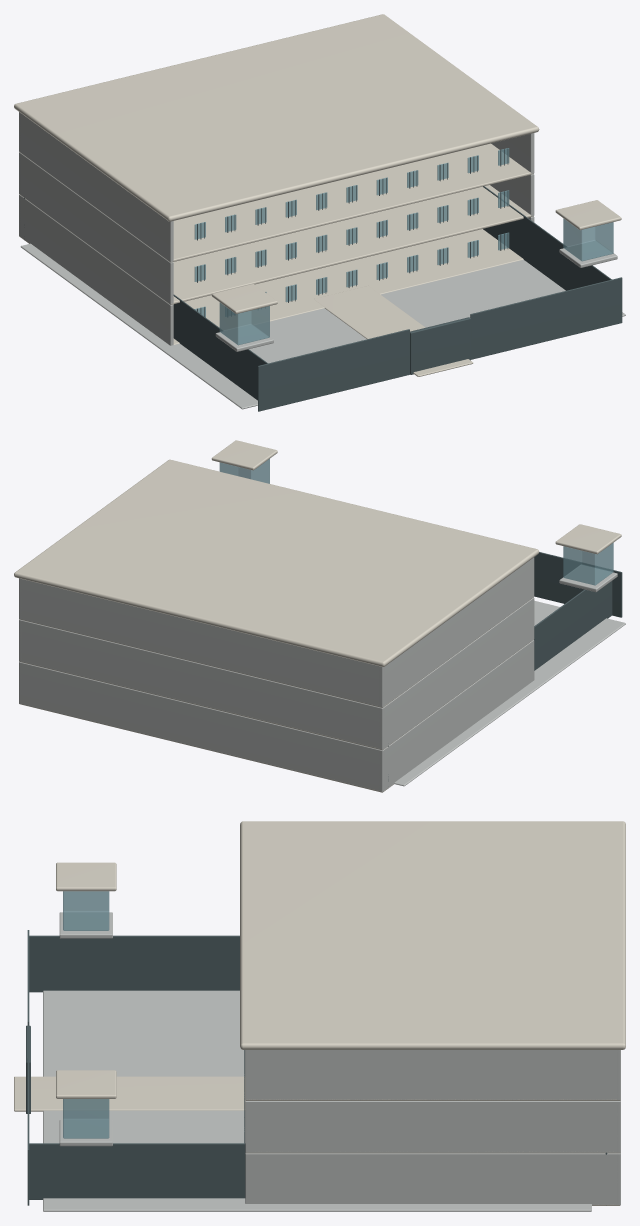
File: prison.glb
The picture shows the model from 3 angles, top to bottom: view 1: azimuth 30°, elevation 25°; view 2: azimuth 150°, elevation 25°; view 3: azimuth 270°, elevation 25°; orthographic projection. The views are drawn at different scales.
Parts seen in each view (by area): view 1: facility textured limestone, facility warm architectural concrete, facility graphite frame, facility real building glazing; view 2: facility warm architectural concrete, facility textured limestone, facility graphite frame, facility real building glazing; view 3: facility textured limestone, facility warm architectural concrete, facility graphite frame, facility real building glazing.
Part boxes in pixels (x1,y1,x2,y2): facility textured limestone: (14,14,621,376); facility warm architectural concrete: (19,112,625,409); facility graphite frame: (24,148,622,411); facility real building glazing: (194,148,613,345); facility warm architectural concrete: (19,557,625,791); facility textured limestone: (14,440,621,792); facility graphite frame: (388,552,622,781); facility real building glazing: (219,459,613,585); facility textured limestone: (14,821,625,1205); facility warm architectural concrete: (43,912,620,1211); facility graphite frame: (26,930,607,1205); facility real building glazing: (63,891,109,1138).
Bounding box in the file's own units: 38.2 × 12.52 × 42.35.
